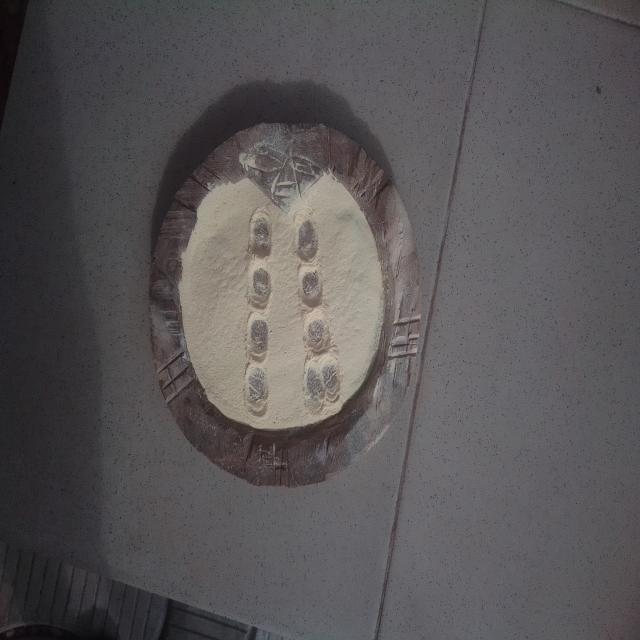double: (301, 352, 344, 413)
single: (242, 364, 274, 424), (246, 204, 276, 260), (242, 310, 272, 364), (292, 208, 322, 261), (296, 260, 328, 309), (302, 306, 332, 356), (246, 260, 274, 312)
